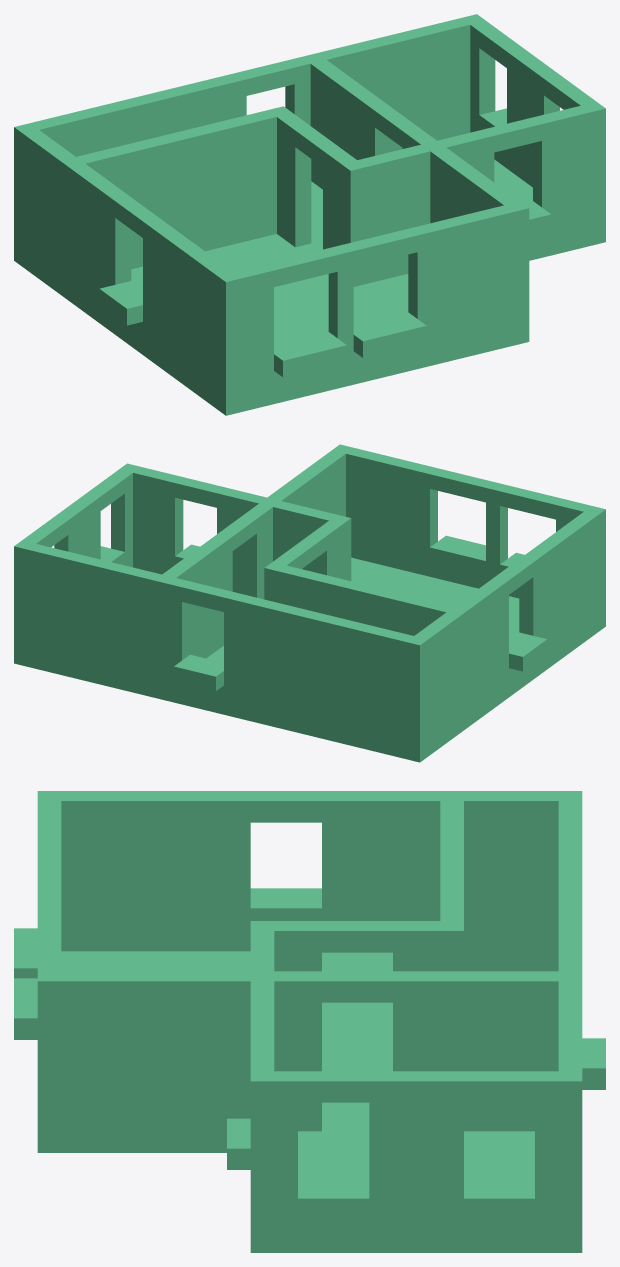
Rendered from floor_two.glb.
3 renders of one model, top to bottom at view 1: azimuth 30°, elevation 25°; view 2: azimuth 150°, elevation 25°; view 3: azimuth 270°, elevation 25°, orthographic. The views are drawn at different scales.
Parts seen in each view (by area): view 1: nth floor; view 2: nth floor; view 3: nth floor.
Boxes of the visible parts, <box> form: nth floor: <box>14,14,605,415</box>; nth floor: <box>14,444,605,762</box>; nth floor: <box>14,791,605,1252</box>.
Bounding box in the file's own units: 3.1 × 0.8 × 2.5.
Materials: 1 (1 with a texture image).
